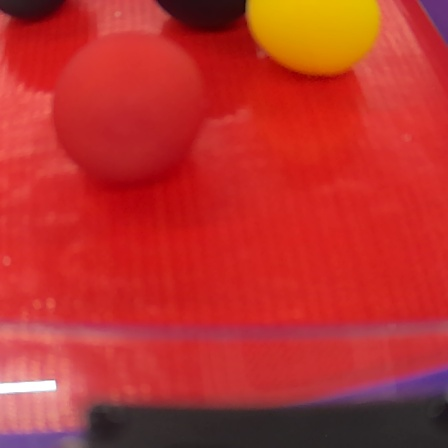red: (51, 27, 206, 190)
red_aim: (3, 5, 448, 448)
yellow: (245, 0, 383, 82)
